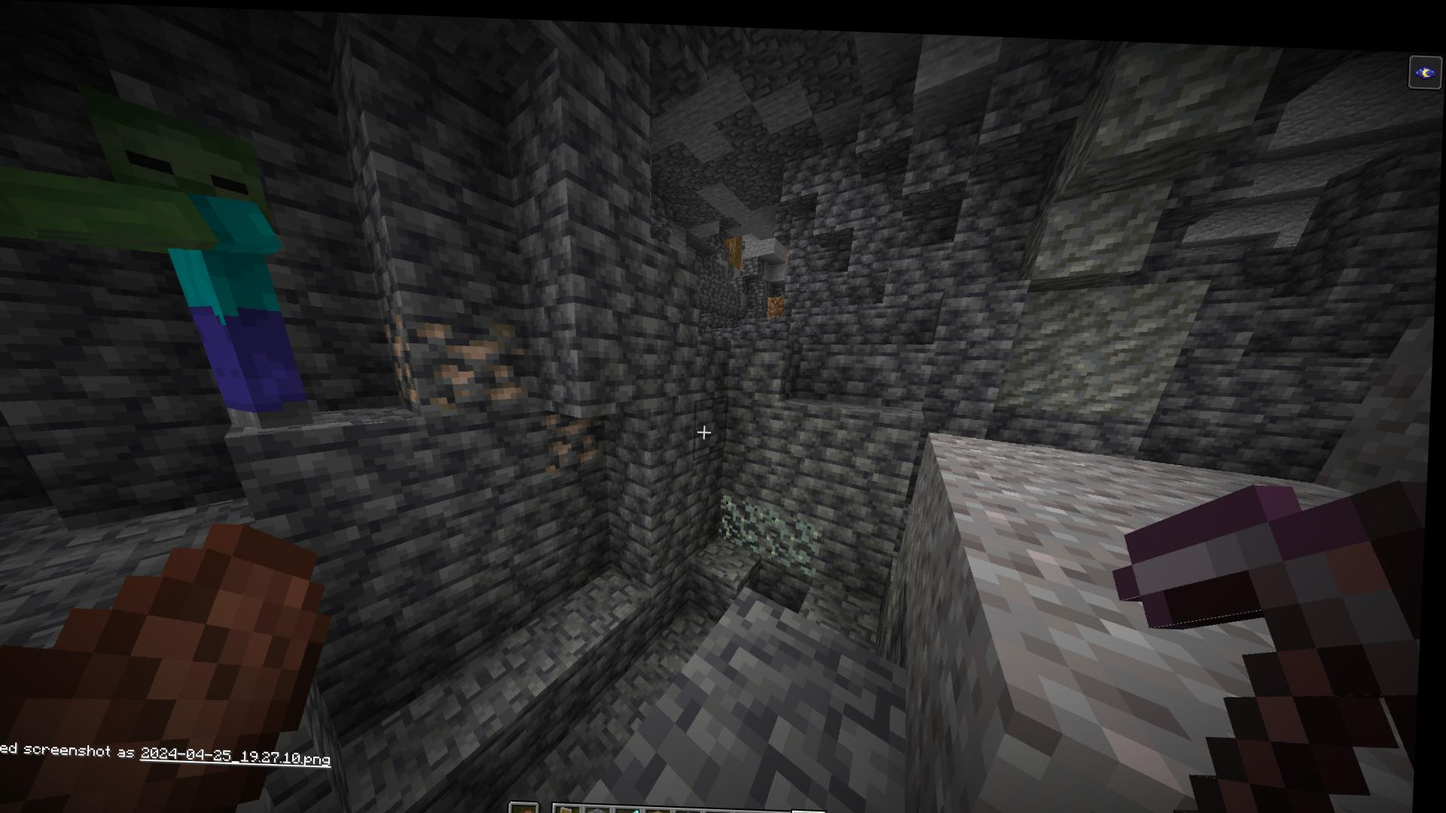iron ore: (382, 313, 547, 403), (543, 403, 612, 471)
